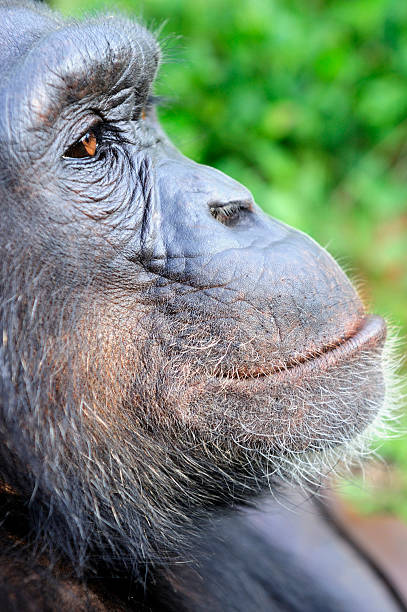chimpanzee: (3, 2, 407, 604)
